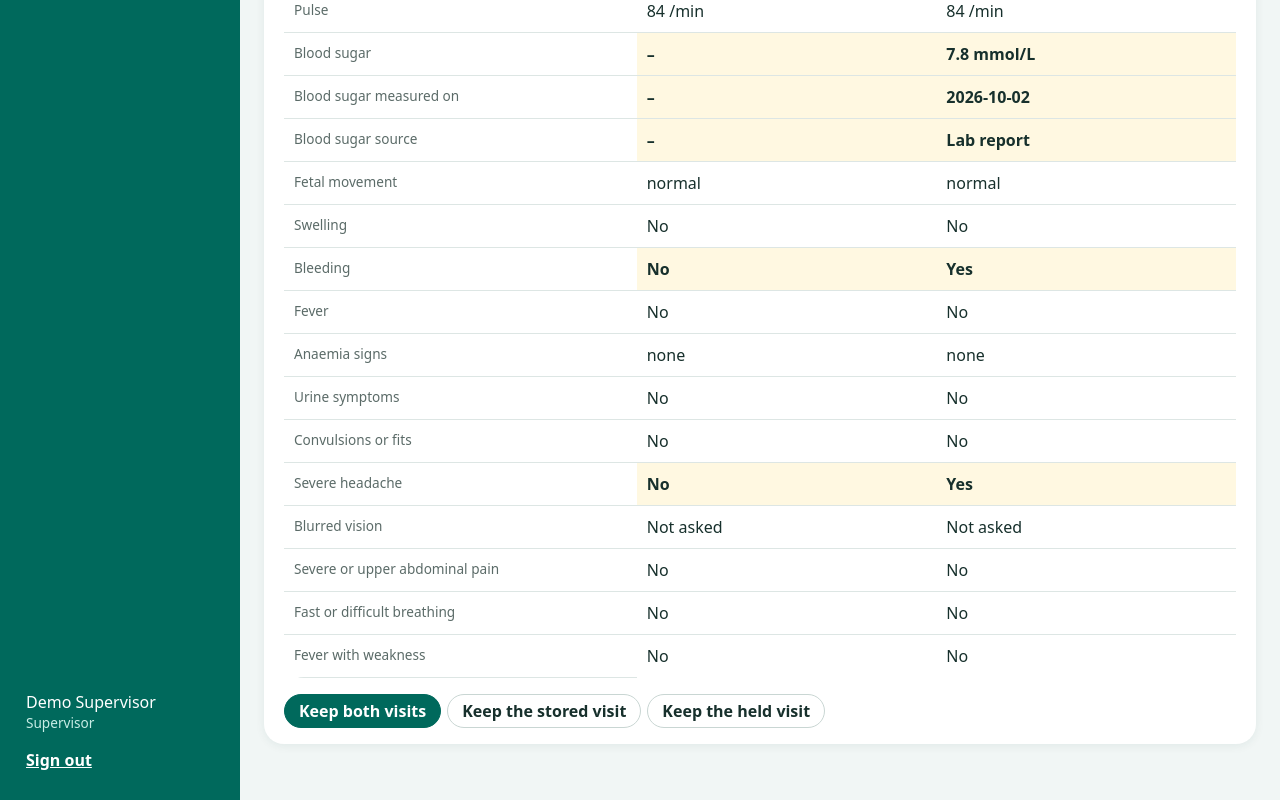
Test: sync conflict queue (M3 FE-2, M10) › records the decision and reloads the queue
(page scrolled)
What coordinates should you click on to do the following:
click the button "Keep both visits"
I would click on:
 (363, 710)
Its box is [284, 694, 441, 728].
(page scrolled)
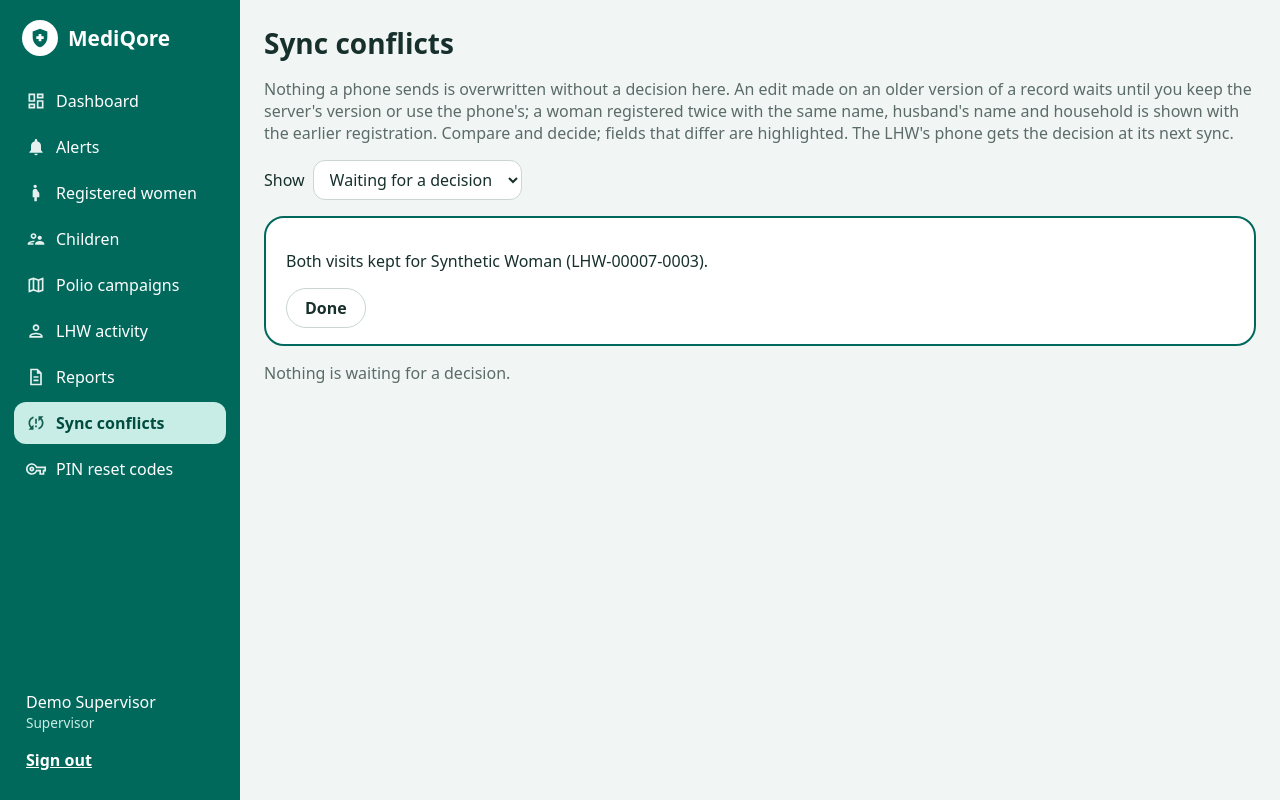
Now the element named "Decision saved" shows "Both visits kept for Synthetic Woman (LHW-00007-0003).", box [264, 216, 1256, 346]
Now the text "Nothing is waiting for a decision." is shown, box [264, 362, 510, 384]
